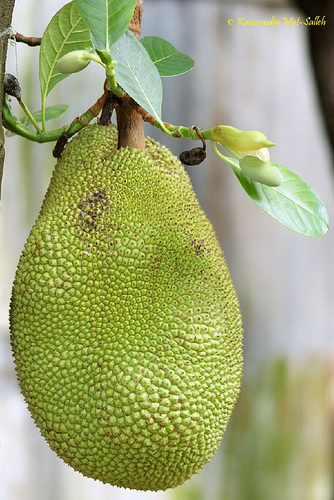jackfruit: (11, 120, 242, 490)
